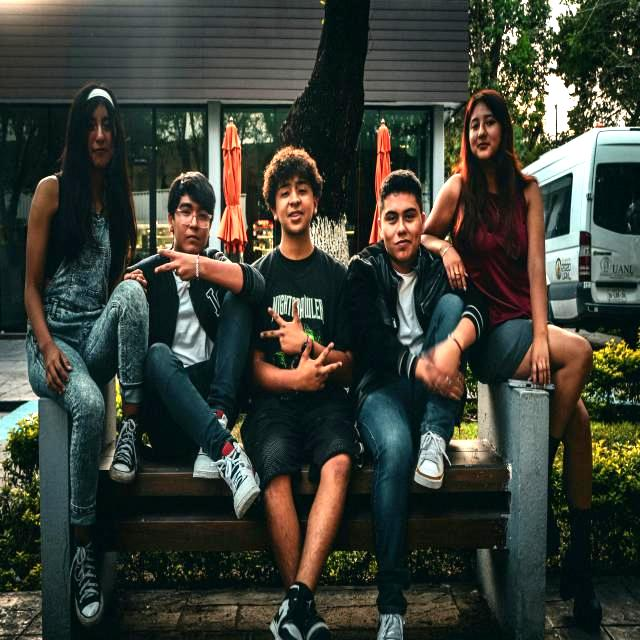no_head_wear: (56, 83, 136, 277), (454, 85, 535, 267), (263, 146, 324, 210), (168, 171, 215, 224), (379, 170, 422, 213)
person: (422, 78, 605, 636), (24, 79, 153, 630), (344, 167, 484, 640), (236, 148, 355, 640), (139, 170, 274, 517)
